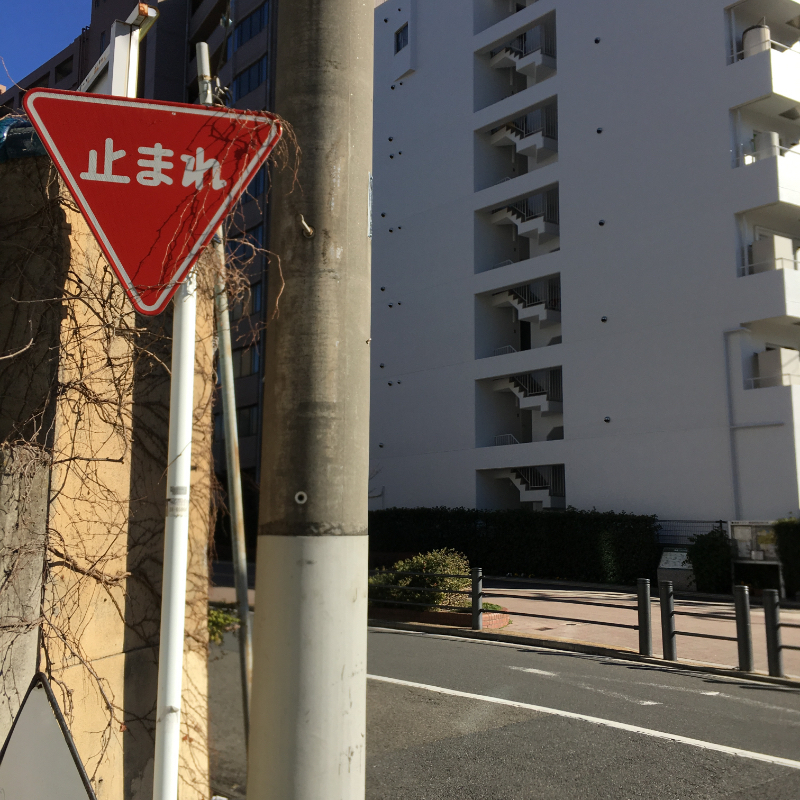STOP: (21, 82, 290, 319)
